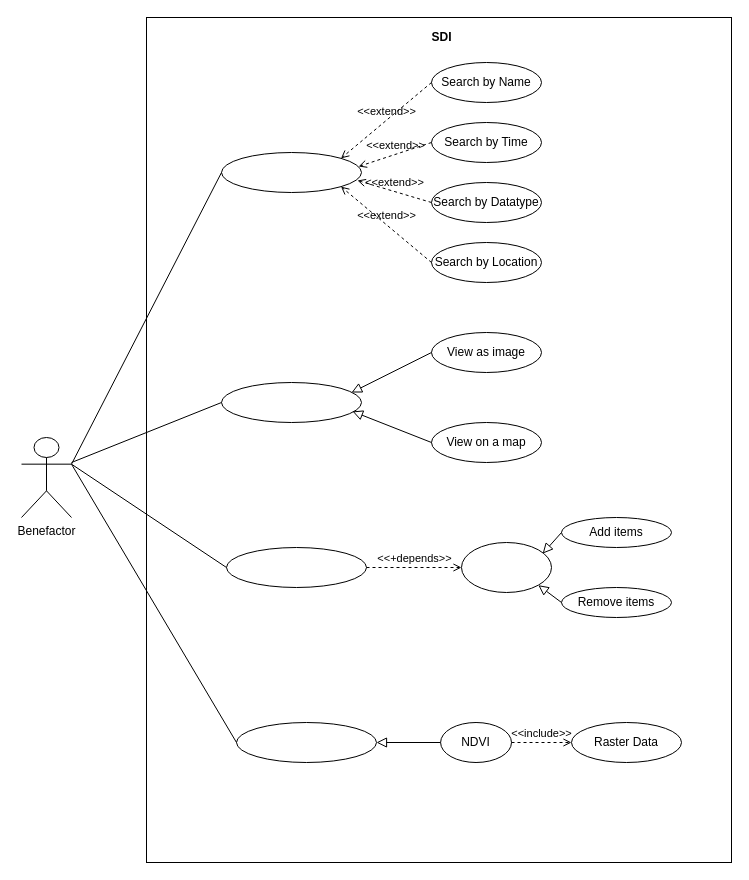
Image size: 749x880. Some labels were removed from this diagram. Here are the shapes that lost their labels. From the top down, the box of each, then its label:
(220, 152, 362, 192): Search Data
(220, 382, 362, 422): View Data
(226, 546, 366, 588): Download Data
(460, 542, 552, 592): Manage Cart
(236, 722, 376, 762): Geoprocess
